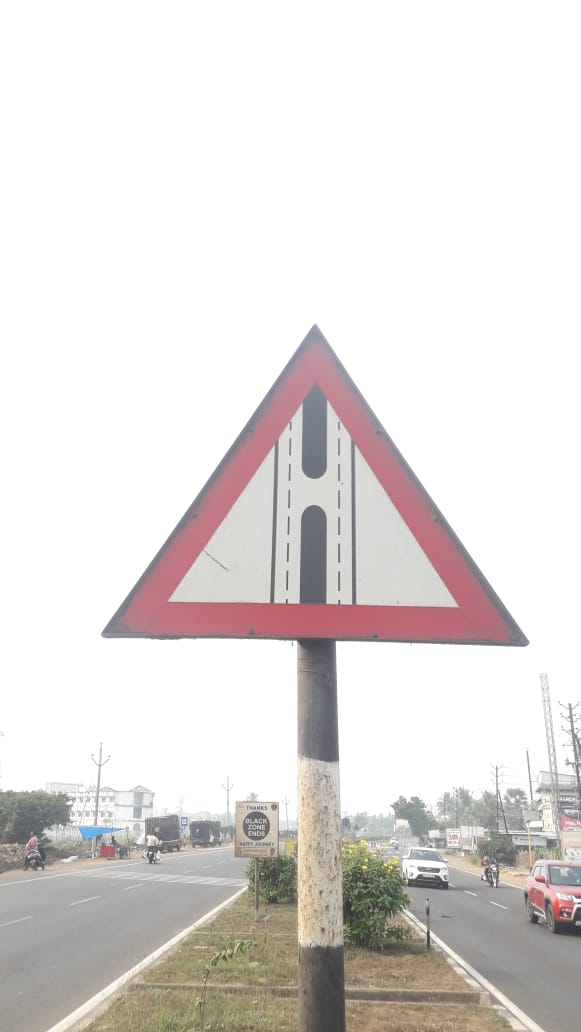highway go straight: (59, 294, 581, 688)
